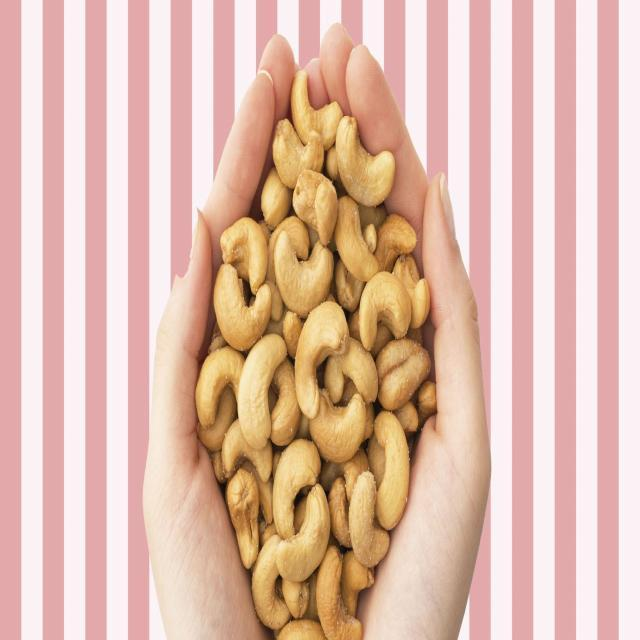Frutta secca: (199, 86, 445, 640)
